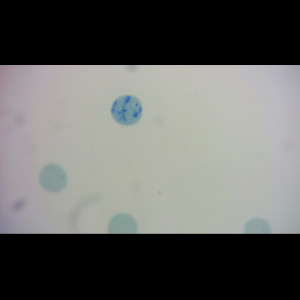aggregate reticulocyte: (110, 94, 144, 127)
erythrocyte: (38, 163, 69, 194)
